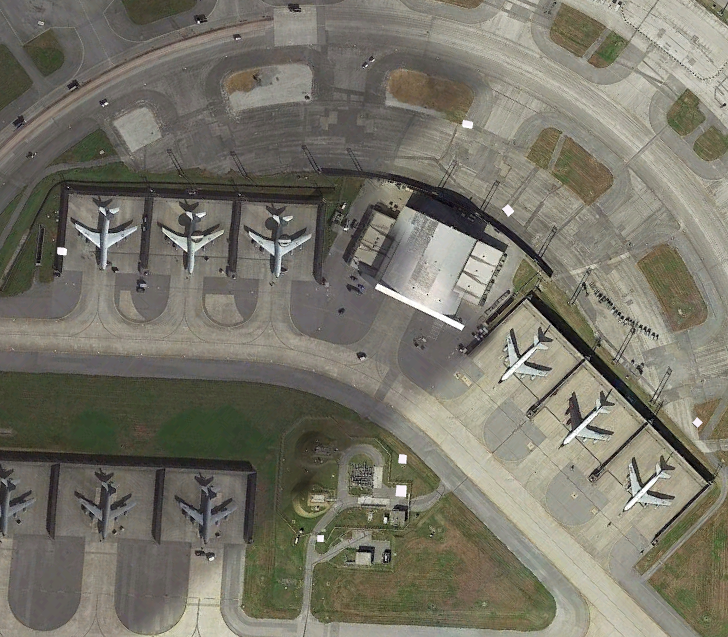A11: (71, 196, 137, 275), (493, 326, 552, 389), (554, 392, 613, 455), (616, 455, 675, 518)
A14: (72, 466, 138, 545), (171, 471, 237, 550), (1, 465, 37, 543)
A7: (157, 204, 226, 283), (242, 202, 312, 279)
